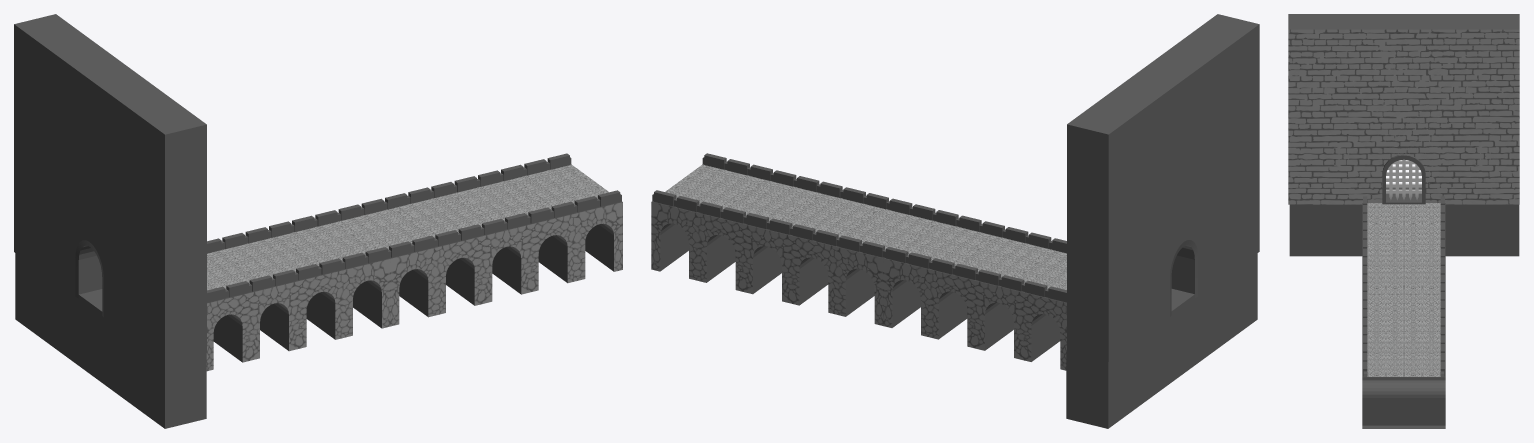
File: Map.fbx
3 renders of one model, left to right at view 1: azimuth 30°, elevation 25°; view 2: azimuth 150°, elevation 25°; view 3: azimuth 270°, elevation 25°, orthographic. The views are drawn at different scales.
Parts seen in each view (by area): view 1: Capsule004, Box006, Object001; view 2: Capsule004, Box006, Object001; view 3: Capsule004, Object001, Box006, Box007.
Boxes of the visible parts, x1,y1,x2,y2 form: Capsule004: (14, 14, 206, 428); Box006: (206, 153, 622, 371); Object001: (207, 164, 622, 303); Capsule004: (1066, 14, 1259, 428); Box006: (651, 153, 1066, 370); Object001: (651, 164, 1066, 302); Capsule004: (1288, 14, 1519, 256); Object001: (1362, 203, 1445, 376); Box006: (1362, 196, 1445, 428); Box007: (1386, 159, 1421, 200).
Bounding box in the file's own units: 547 × 305 × 283.
